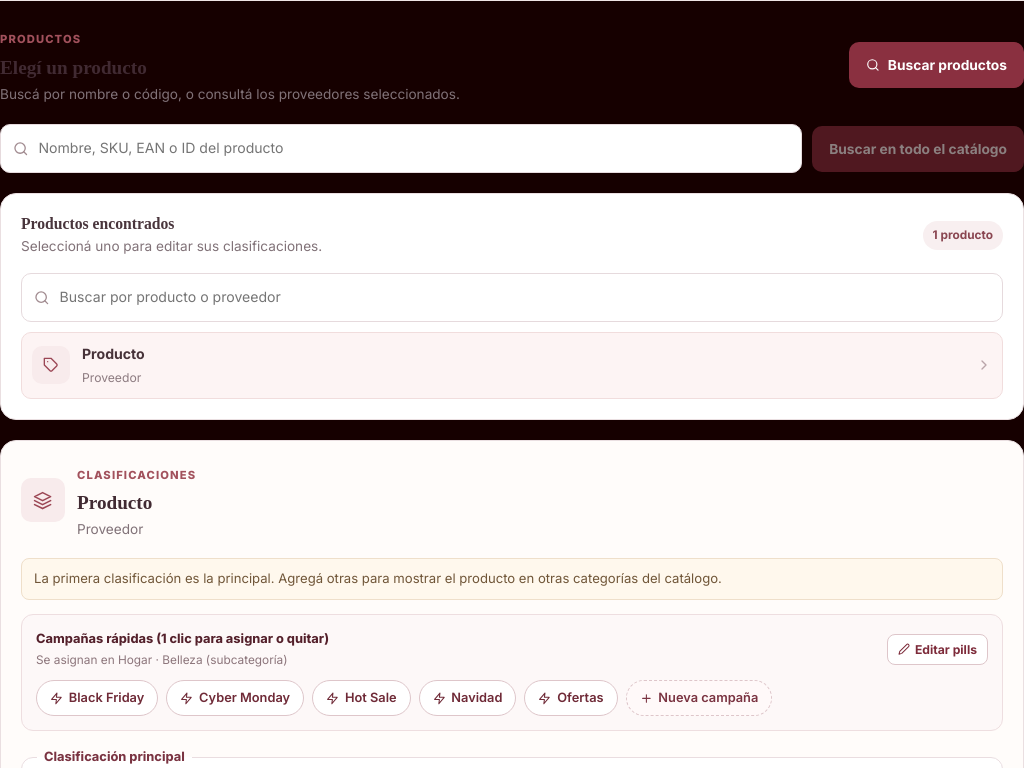
edita clasificaciones en cascada y publica al guardar
Earlier steps of the test are not shown.
Later steps or results of the test are not shown.
Type "Producto" into the search field named "Buscar producto" at (525, 297), box [60, 274, 990, 321]
(page scrolled)
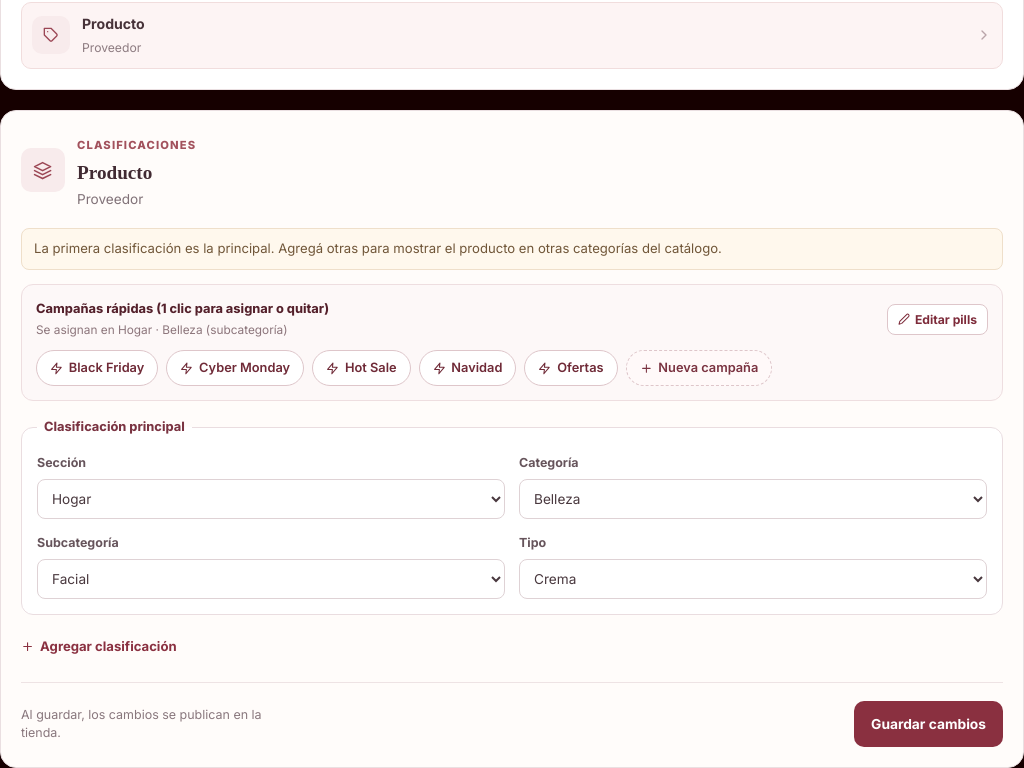
Select "Corporal" in the dropdown labelled "Subcategoría" at (271, 579), box [37, 559, 505, 599]
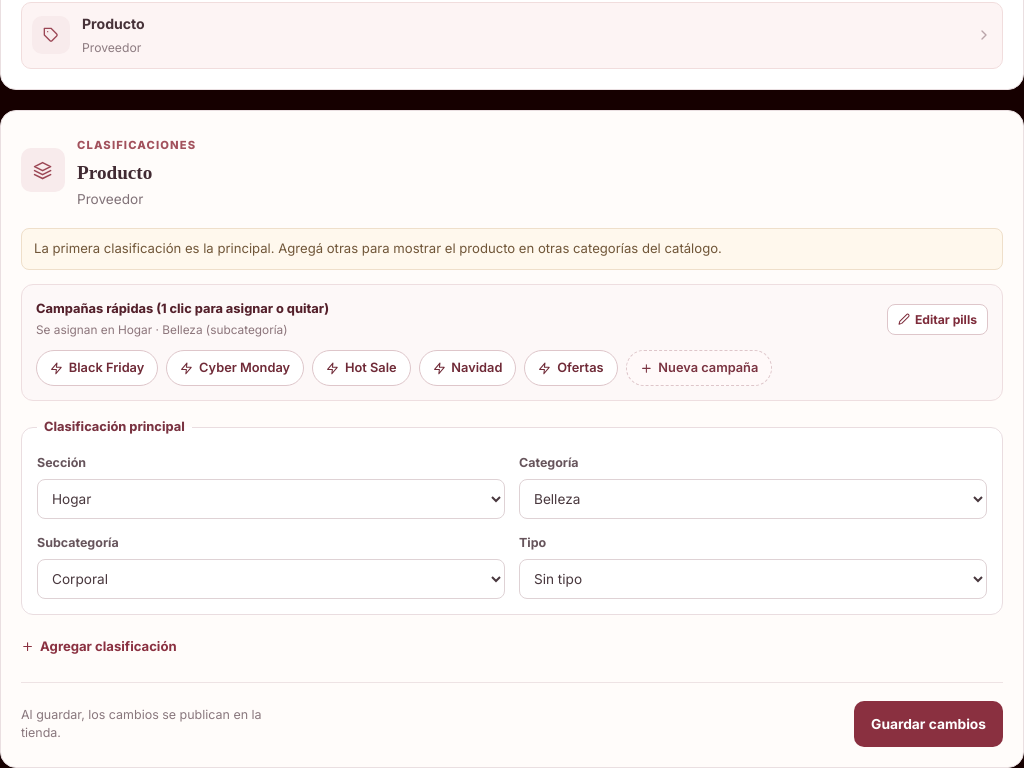
Now the dropdown labelled "Tipo" shows "Sin tipo"
Select "Aceite" in the dropdown labelled "Tipo" at (753, 579), box [519, 559, 987, 599]
Click the button "Agregar clasificación" at (99, 646), box [21, 631, 177, 662]
(page scrolled)
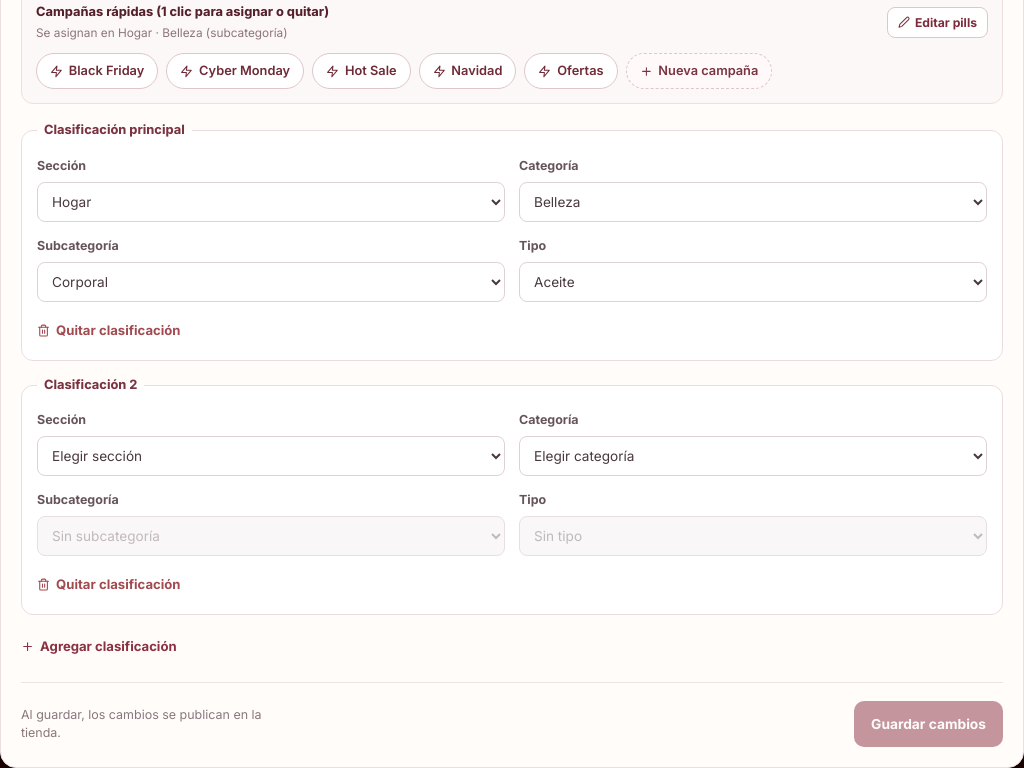
Select "Perfumería" in the dropdown labelled "Sección" below "Clasificación 2" at (271, 456), box [37, 436, 505, 476]
Select "Belleza" in the 2nd dropdown labelled "Categoría" at (753, 456), box [519, 436, 987, 476]
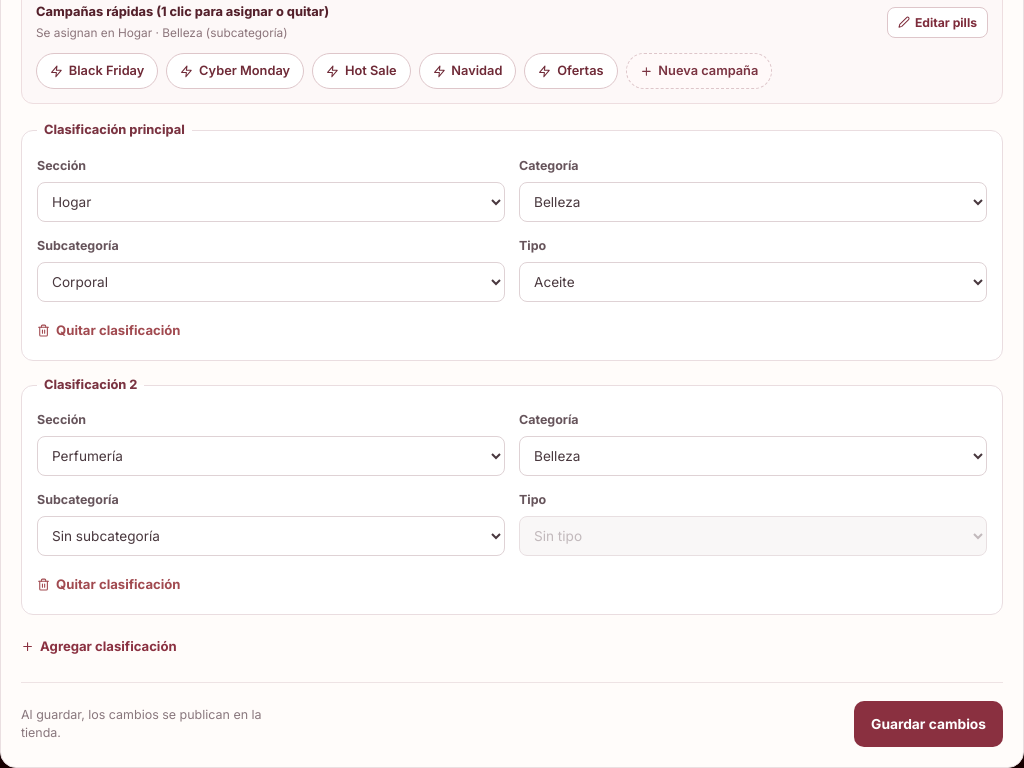
Click the button "Guardar cambios" at (929, 724), box [854, 701, 1003, 747]
(page scrolled)
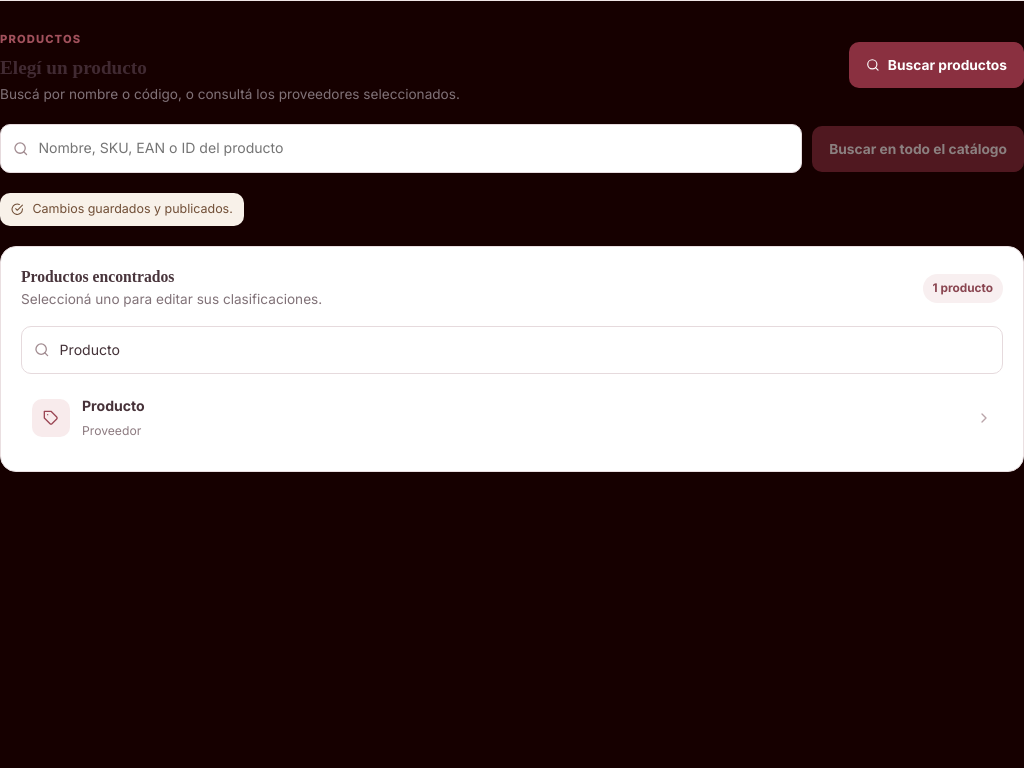
Now the text "Cambios guardados y publicados." is shown, box [0, 193, 244, 226]
Click the button with aria-label "Producto · Proveedor" at (51, 418), box [21, 384, 1003, 451]
(page scrolled)
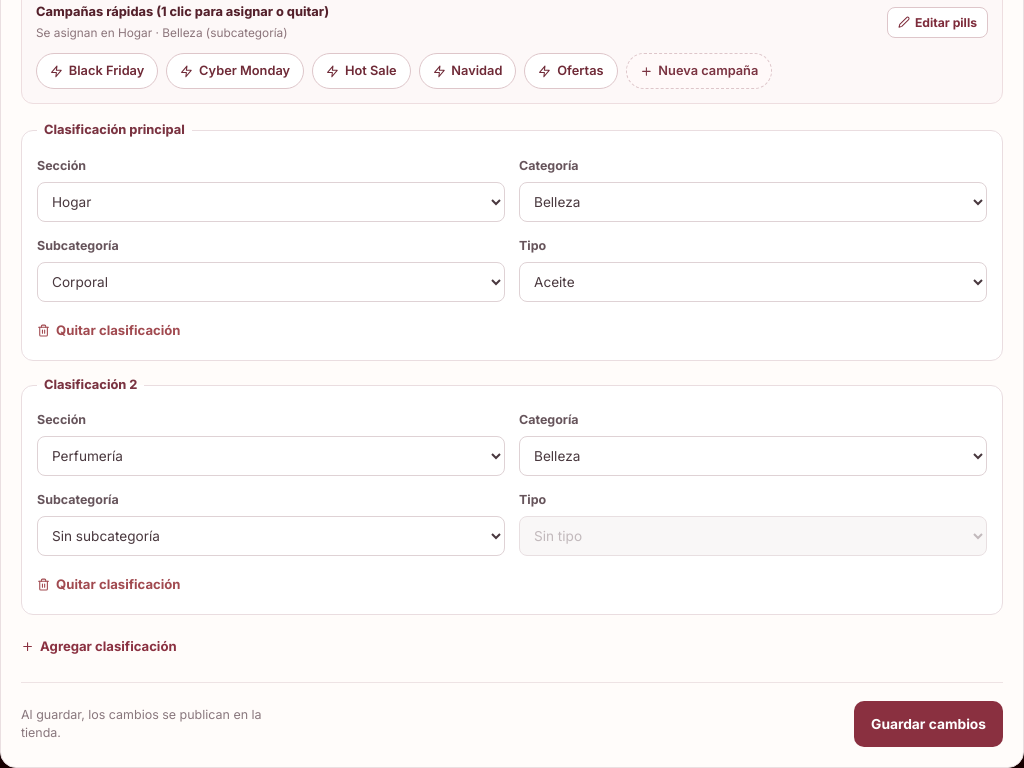
Now the dropdown labelled "Subcategoría" below "Clasificación principal" shows "Corporal", box [37, 262, 505, 302]
